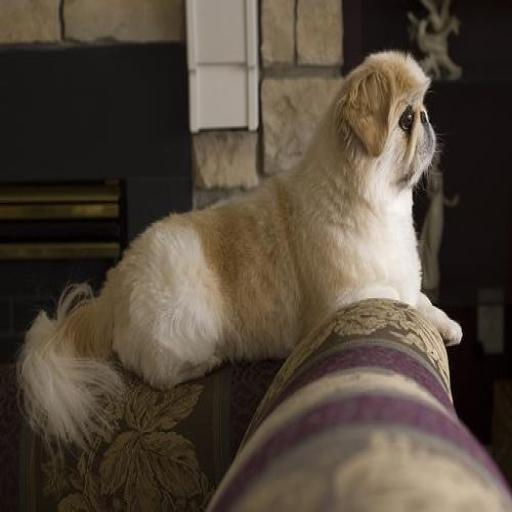dog_face: (326, 52, 441, 184)
